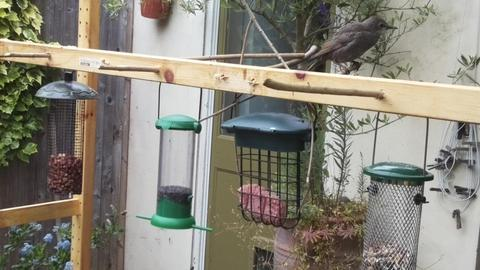starling: (307, 15, 398, 75)
